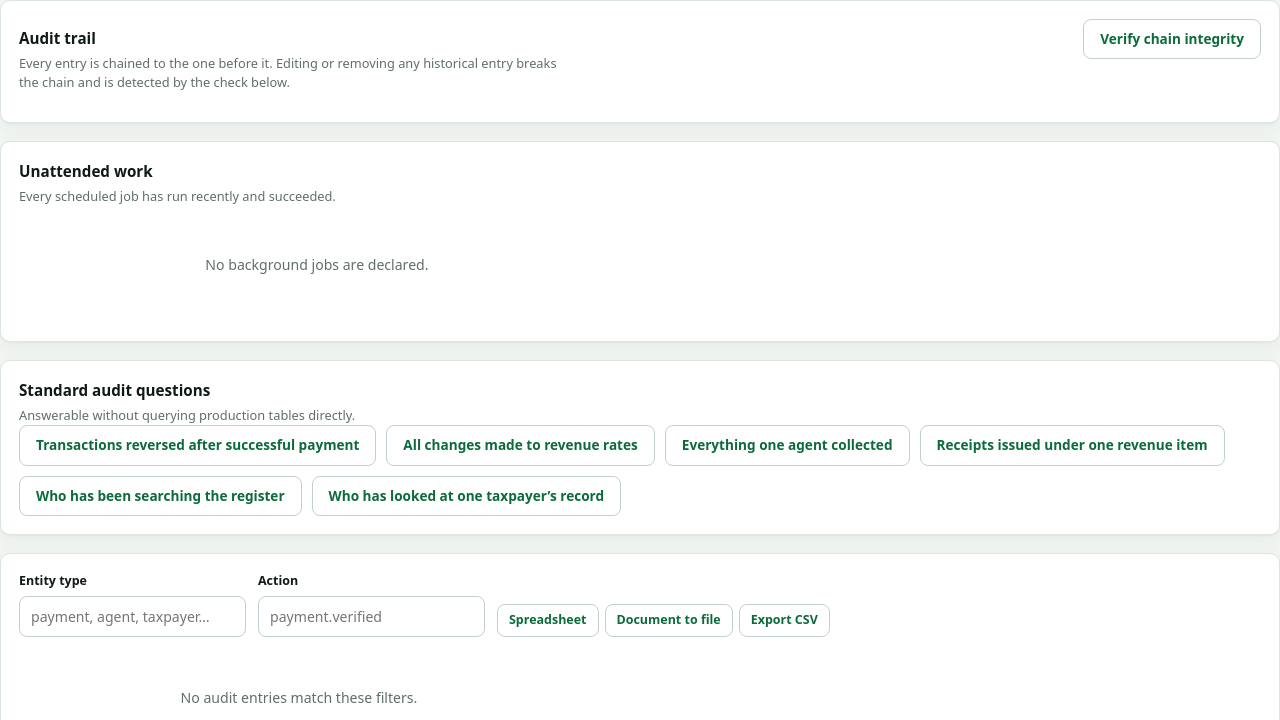
Scenario: the agent picker says when it is not every agent › says nothing when every agent fits
Expected: the heading "Unattended work" is shown, [19, 161, 153, 181]
Click the button "Everything one agent collected".
click(787, 446)  # box [665, 425, 910, 466]
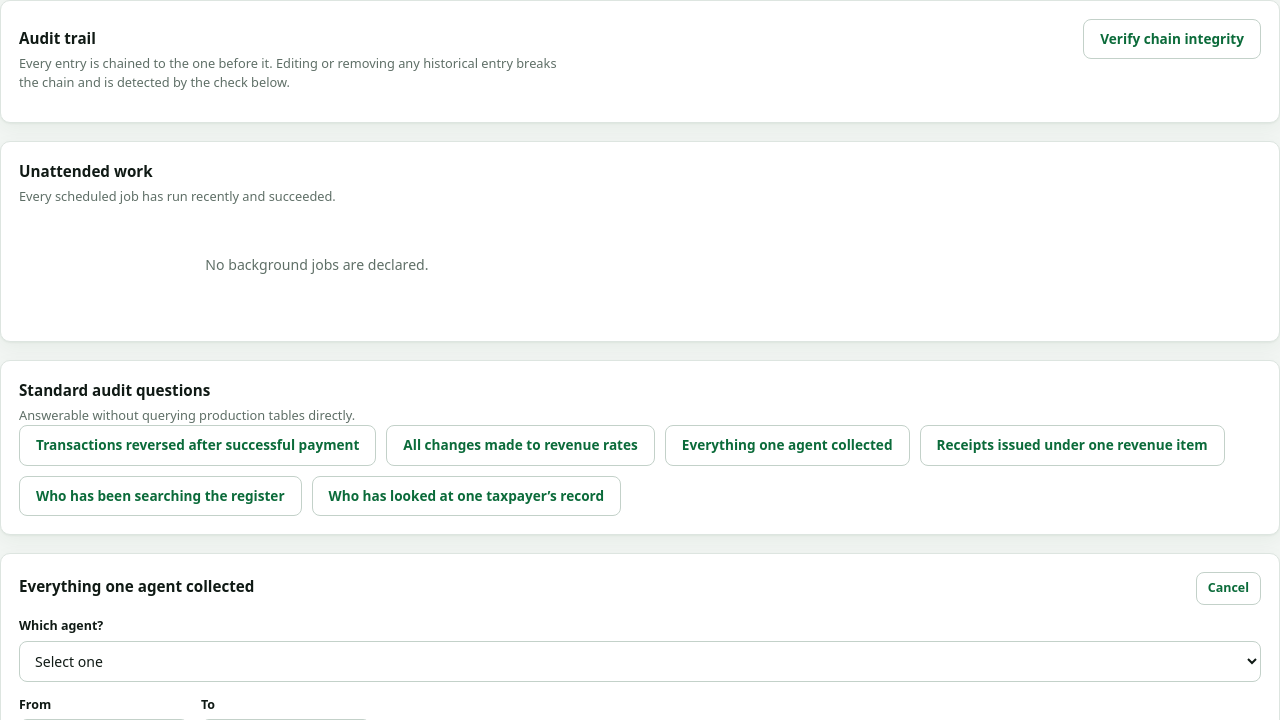
Expected: the dropdown labelled "Which agent?" is shown, [19, 641, 1261, 682]
